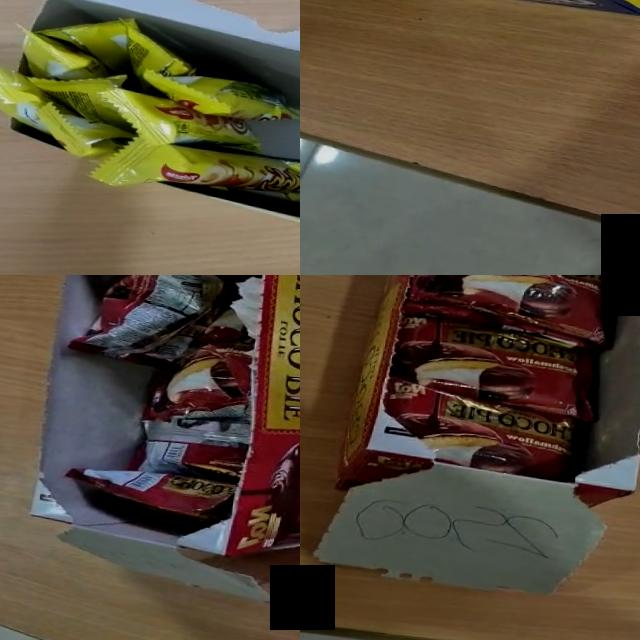Ahh: (84, 129, 300, 205), (92, 84, 264, 152), (140, 69, 300, 125), (28, 9, 144, 76), (8, 21, 118, 86), (22, 64, 132, 126), (28, 100, 138, 161), (114, 17, 198, 96), (0, 54, 62, 137)
Chocopie: (388, 312, 602, 422), (376, 376, 584, 484), (400, 275, 622, 352), (65, 275, 234, 372), (140, 299, 259, 431), (60, 464, 238, 526), (127, 410, 250, 482)
